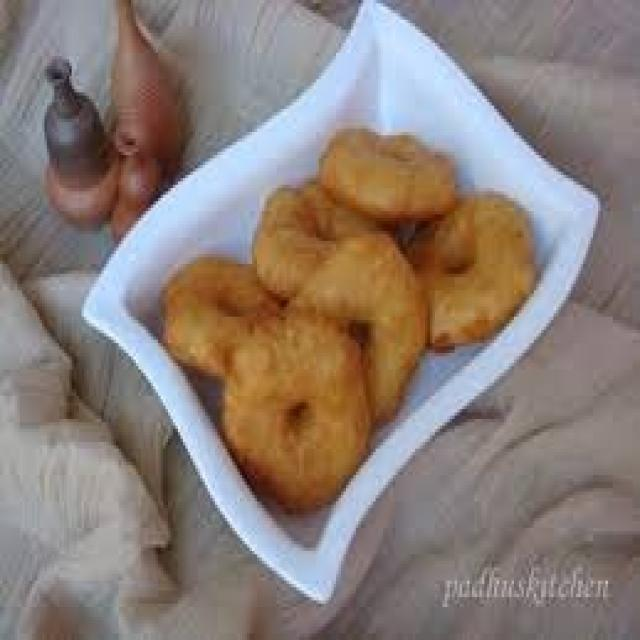medu vadai: (164, 89, 536, 520), (159, 129, 533, 511), (225, 312, 369, 509), (417, 194, 534, 348), (255, 183, 379, 302), (162, 258, 281, 376), (320, 128, 456, 222)
